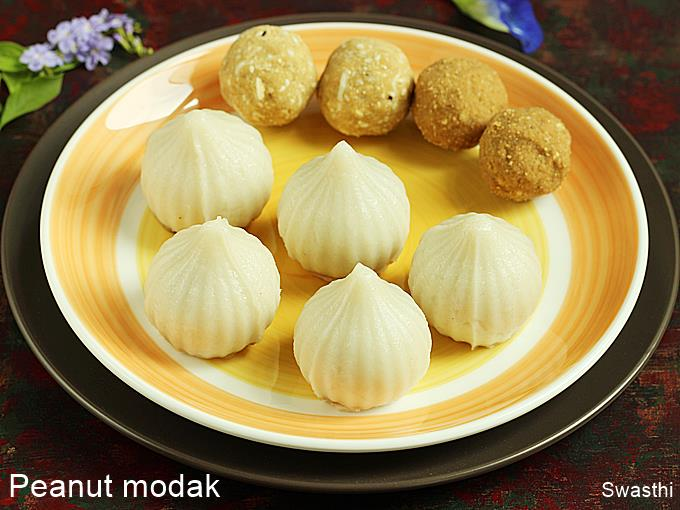modak: (289, 262, 458, 416), (140, 226, 299, 351), (143, 112, 282, 237), (279, 130, 407, 264), (417, 219, 546, 349)
